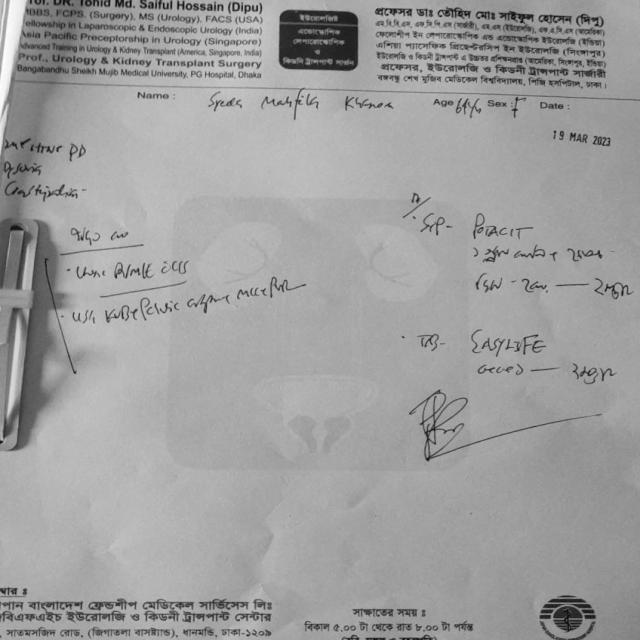medicine: (458, 327, 554, 355), (466, 212, 535, 244)
